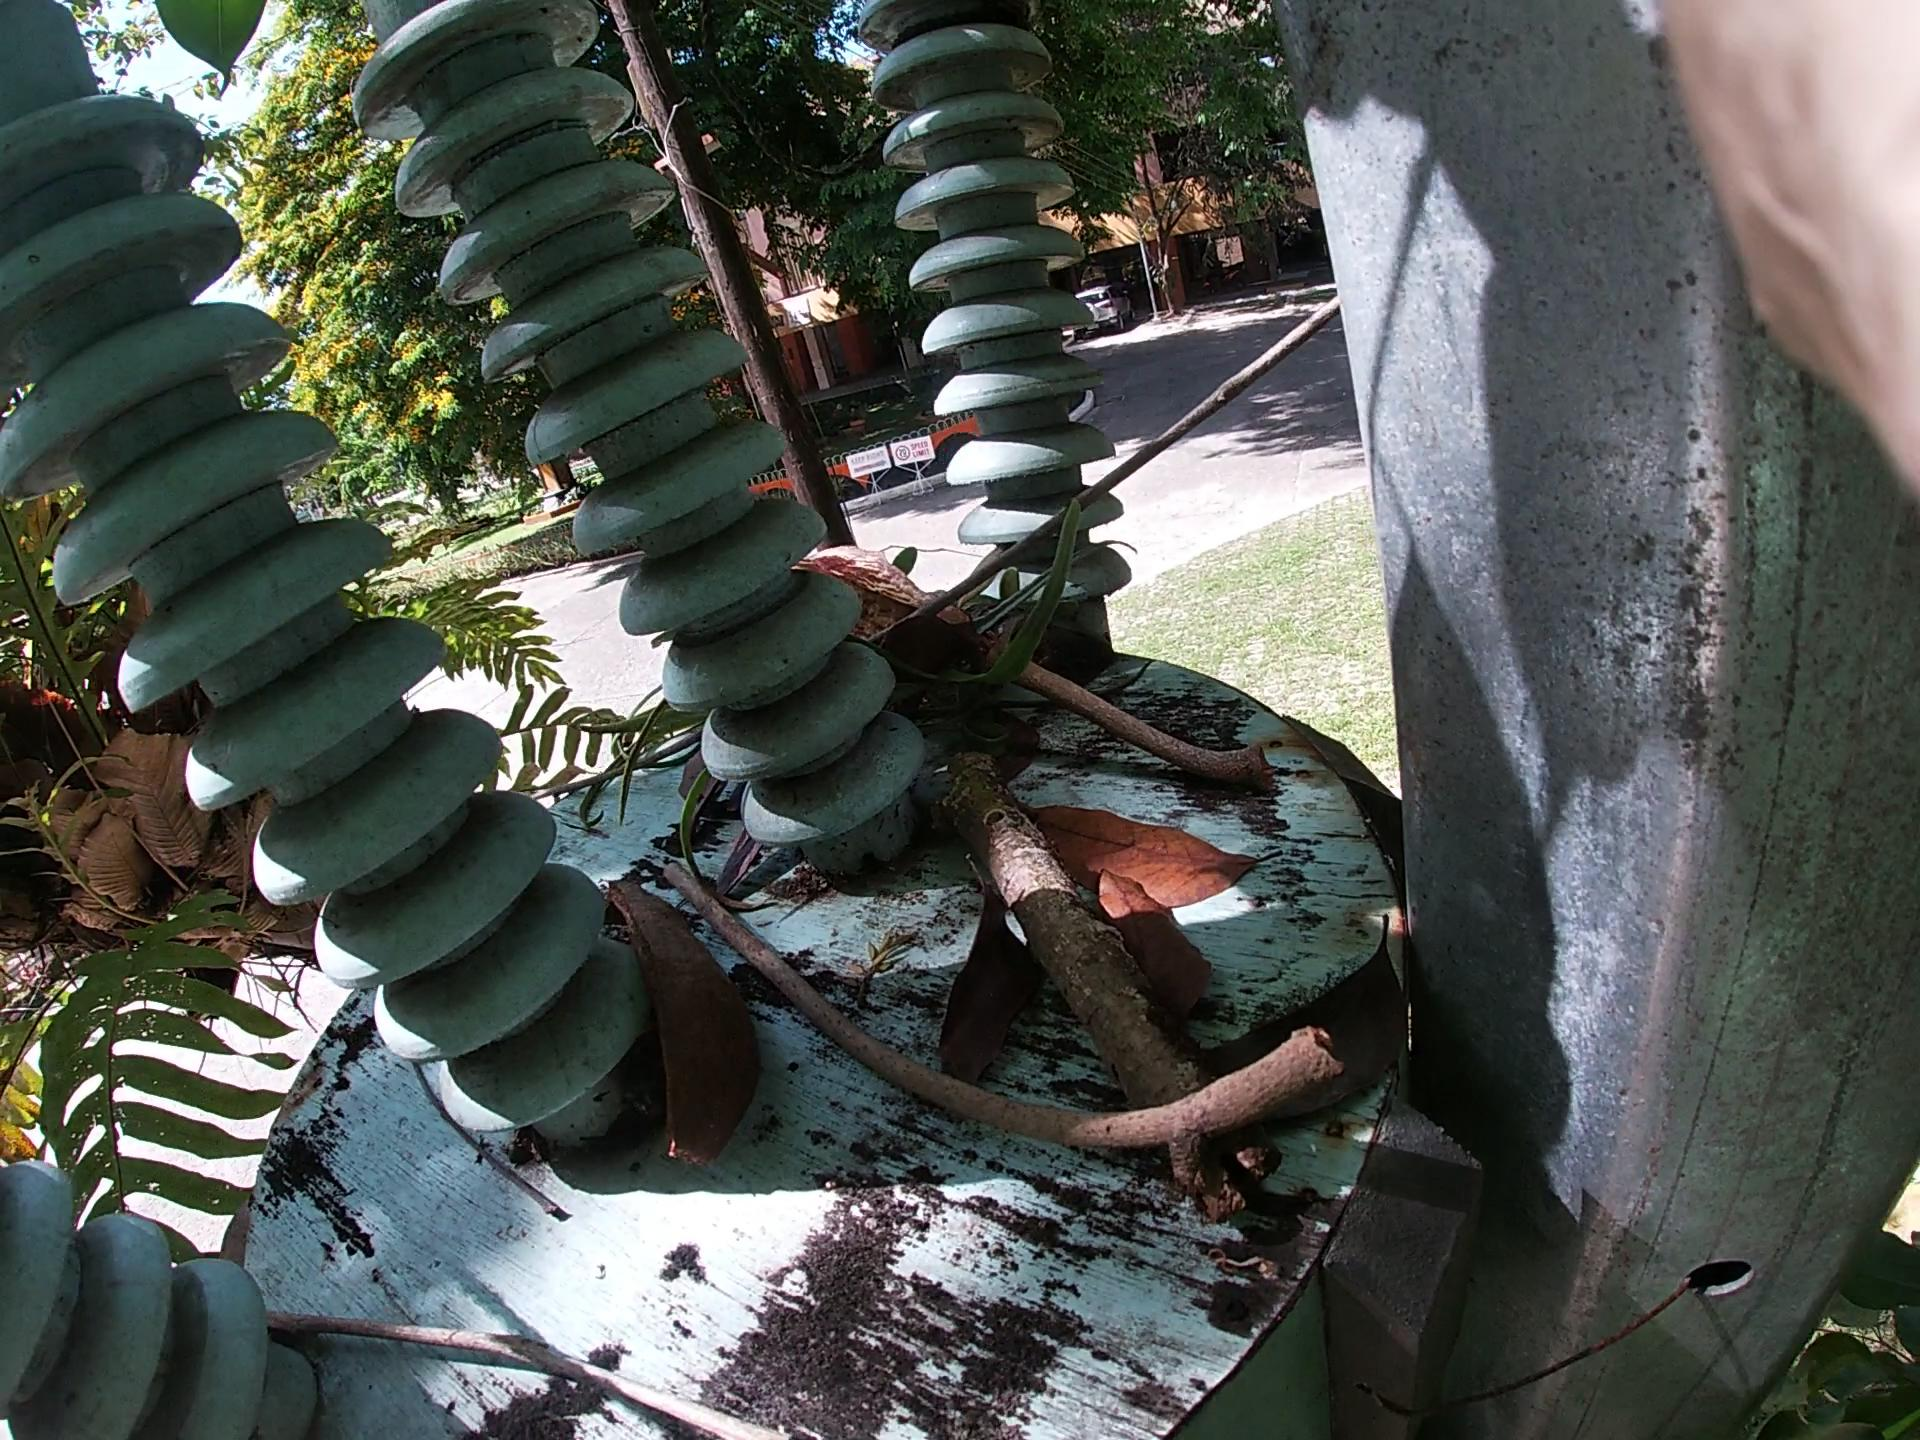branch with leaves: (821, 489, 1293, 1100)
leaf: (954, 843, 1228, 1080)
tree branch: (655, 835, 1404, 1231), (869, 277, 1299, 740), (1005, 555, 1327, 889), (268, 1243, 721, 1402)
